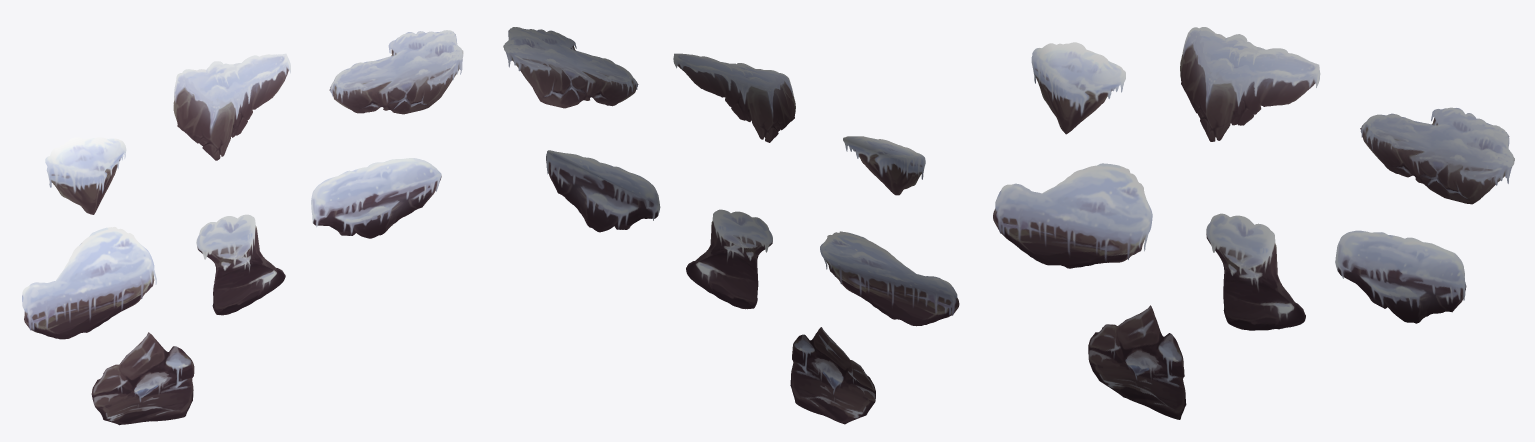
The model's file is Snow Rocks.FBX.
The picture shows the model from 3 angles, left to right: view 1: azimuth 30°, elevation 25°; view 2: azimuth 150°, elevation 25°; view 3: azimuth 330°, elevation 25°; orthographic projection. The views are drawn at different scales.
Parts seen in each view (by area): view 1: Snow Rock 2, Snow Rock 5, Snow Rock 3, Snow Rock 6, Snow Rock 7, Snow Rock 4, Snow Rock 1; view 2: Snow Rock 2, Snow Rock 5, Snow Rock 6, Snow Rock 7, Snow Rock 3, Snow Rock 4, Snow Rock 1; view 3: Snow Rock 2, Snow Rock 5, Snow Rock 3, Snow Rock 6, Snow Rock 4, Snow Rock 7, Snow Rock 1.
Boxes of the visible parts, <box> form: Snow Rock 2: <box>22,227,156,339</box>; Snow Rock 5: <box>329,30,463,114</box>; Snow Rock 3: <box>173,53,290,160</box>; Snow Rock 6: <box>311,158,441,238</box>; Snow Rock 7: <box>91,332,194,425</box>; Snow Rock 4: <box>196,214,285,315</box>; Snow Rock 1: <box>45,137,126,214</box>; Snow Rock 2: <box>820,231,959,326</box>; Snow Rock 5: <box>503,27,638,108</box>; Snow Rock 6: <box>546,150,660,232</box>; Snow Rock 7: <box>790,327,875,424</box>; Snow Rock 3: <box>673,53,795,142</box>; Snow Rock 4: <box>686,209,772,309</box>; Snow Rock 1: <box>843,136,925,195</box>; Snow Rock 2: <box>993,163,1152,268</box>; Snow Rock 5: <box>1360,107,1514,204</box>; Snow Rock 3: <box>1180,27,1320,141</box>; Snow Rock 6: <box>1335,230,1466,323</box>; Snow Rock 4: <box>1206,213,1305,330</box>; Snow Rock 7: <box>1088,305,1186,419</box>; Snow Rock 1: <box>1031,42,1125,134</box>.
Size of the model in its own units: 1617 by 114 by 1176.
